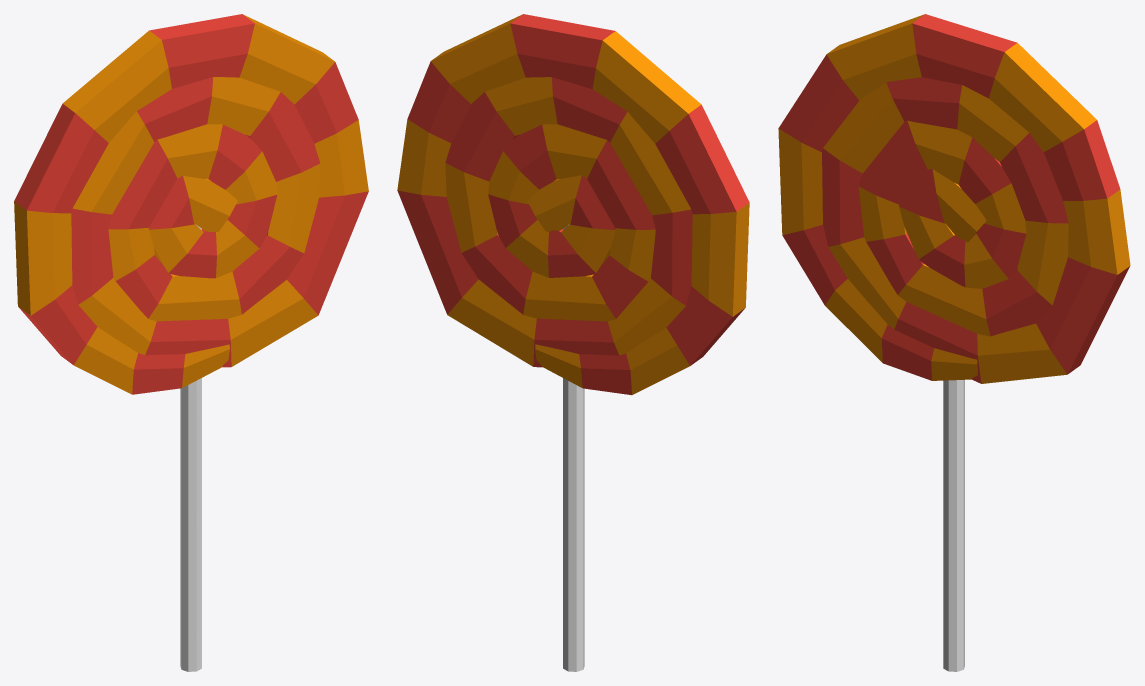
The model's file is candy.obj.
3 views of the same model, side by side, from view 1: azimuth 30°, elevation 25°; view 2: azimuth 150°, elevation 25°; view 3: azimuth 330°, elevation 25° (orthographic).
Parts seen in each view (by area): view 1: Circle.001; view 2: Circle.001; view 3: Circle.001.
Boxes of the visible parts, x1=… form: Circle.001: x1=14, y1=14, x2=368, y2=671; Circle.001: x1=397, y1=14, x2=749, y2=671; Circle.001: x1=778, y1=14, x2=1130, y2=671.
Bounding box in the file's own units: 0.4515 × 0.8109 × 0.0384.
